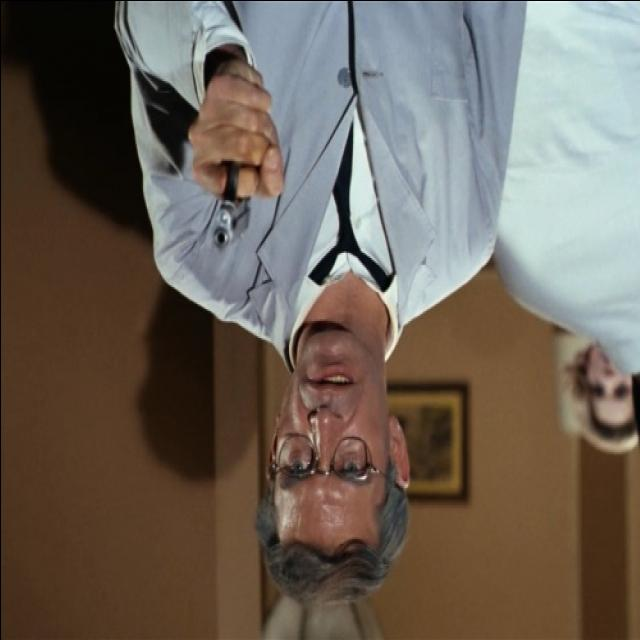weapons: (200, 104, 274, 256)
